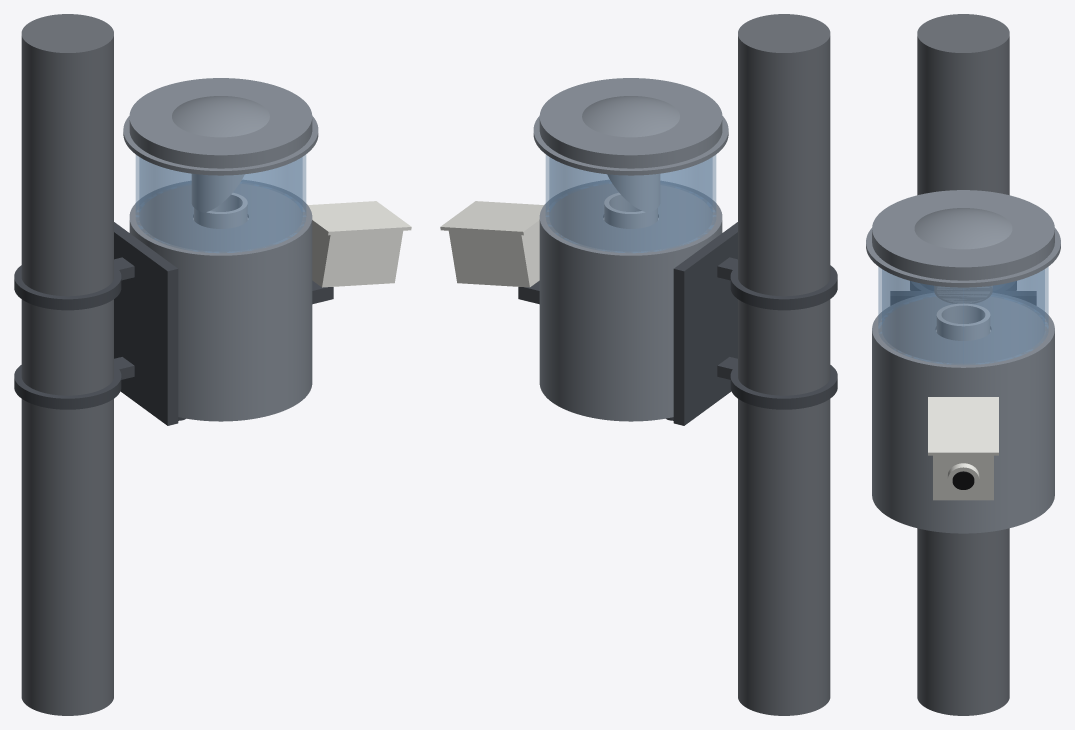
The model's file is san_pham_v2.glb.
3 renders of one model, left to right at view 1: azimuth 30°, elevation 25°; view 2: azimuth 150°, elevation 25°; view 3: azimuth 270°, elevation 25°, orthographic.
Visible parts, largest first — view 1: cot_lap_dat, vo_de, nap_tren, ong_cua_so, tam_ga, camera, phan_quay, kep_cot_30, kep_cot_120; view 2: cot_lap_dat, vo_de, nap_tren, ong_cua_so, tam_ga, camera, phan_quay, kep_cot_30, kep_cot_120; view 3: cot_lap_dat, vo_de, nap_tren, ong_cua_so, camera, phan_quay, tam_ga, guong_45, ong_kinh_camera.
Boxes of the visible parts, x1,y1,x2,y2 form: cot_lap_dat: (21,14,113,715); vo_de: (129,180,312,421); nap_tren: (123,78,318,175); ong_cua_so: (136,155,305,252); tam_ga: (114,222,178,425); camera: (308,201,411,287); phan_quay: (191,173,248,228); kep_cot_30: (14,357,134,409); kep_cot_120: (14,257,134,310); cot_lap_dat: (738,14,830,715); vo_de: (539,180,722,421); nap_tren: (533,78,728,175); ong_cua_so: (546,155,715,252); tam_ga: (673,222,737,425); camera: (440,201,543,287); phan_quay: (603,173,660,228); kep_cot_30: (717,357,837,409); kep_cot_120: (717,257,837,310); cot_lap_dat: (917,14,1009,715); vo_de: (872,293,1054,533); nap_tren: (866,190,1060,287); ong_cua_so: (878,267,1048,364); camera: (928,397,998,500); phan_quay: (934,286,992,340); tam_ga: (890,291,1036,305); guong_45: (937,286,989,303); ong_kinh_camera: (952,471,974,489).
Bounding box in the file's own units: 353 × 600 × 160.
